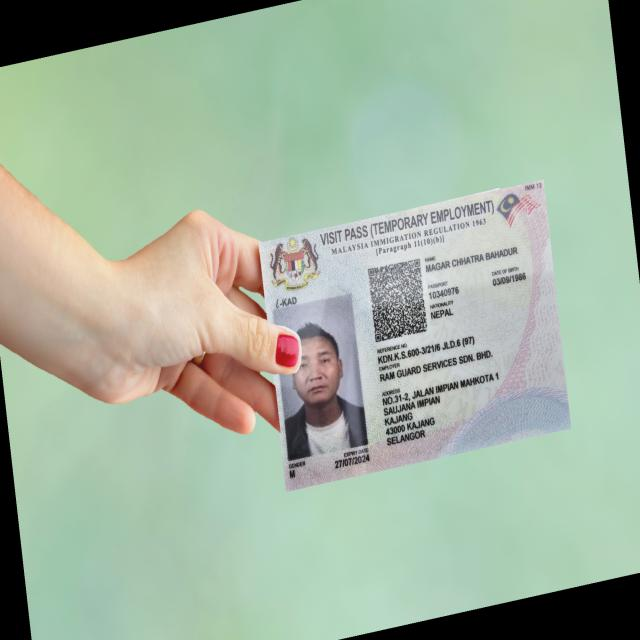ikad-temp: (257, 178, 571, 492)
